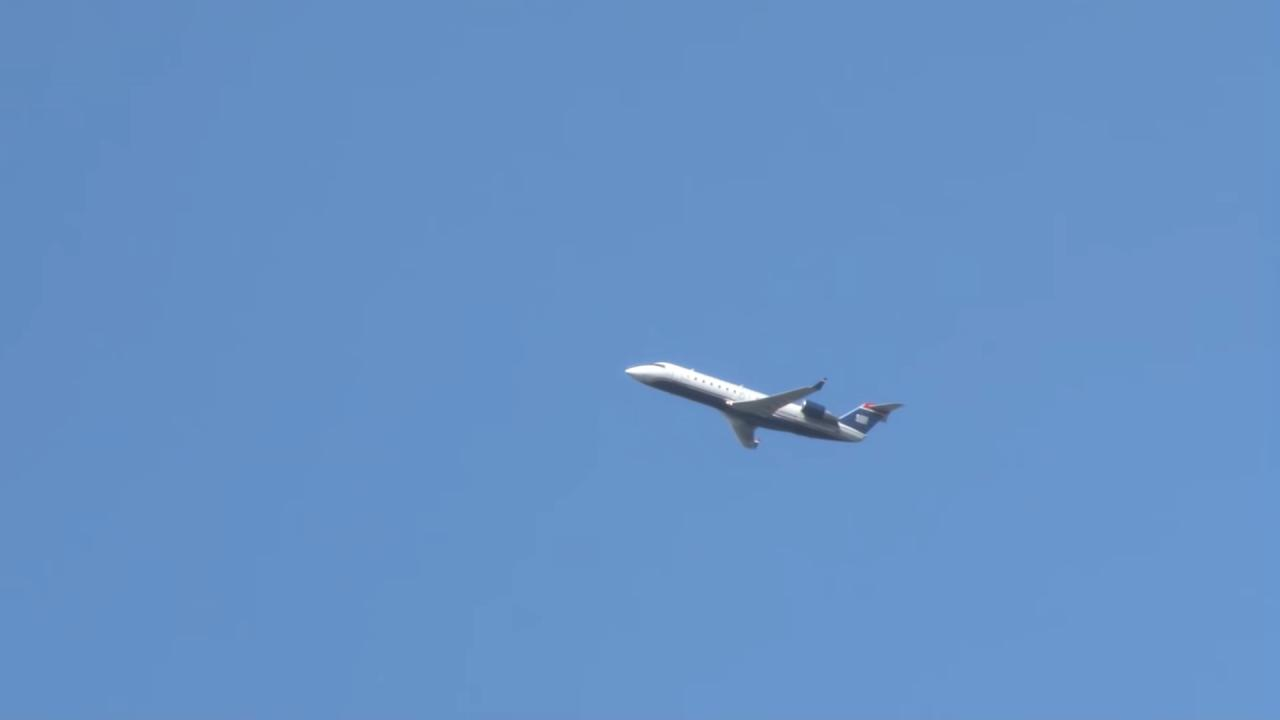Airplane: (612, 345, 914, 472)
